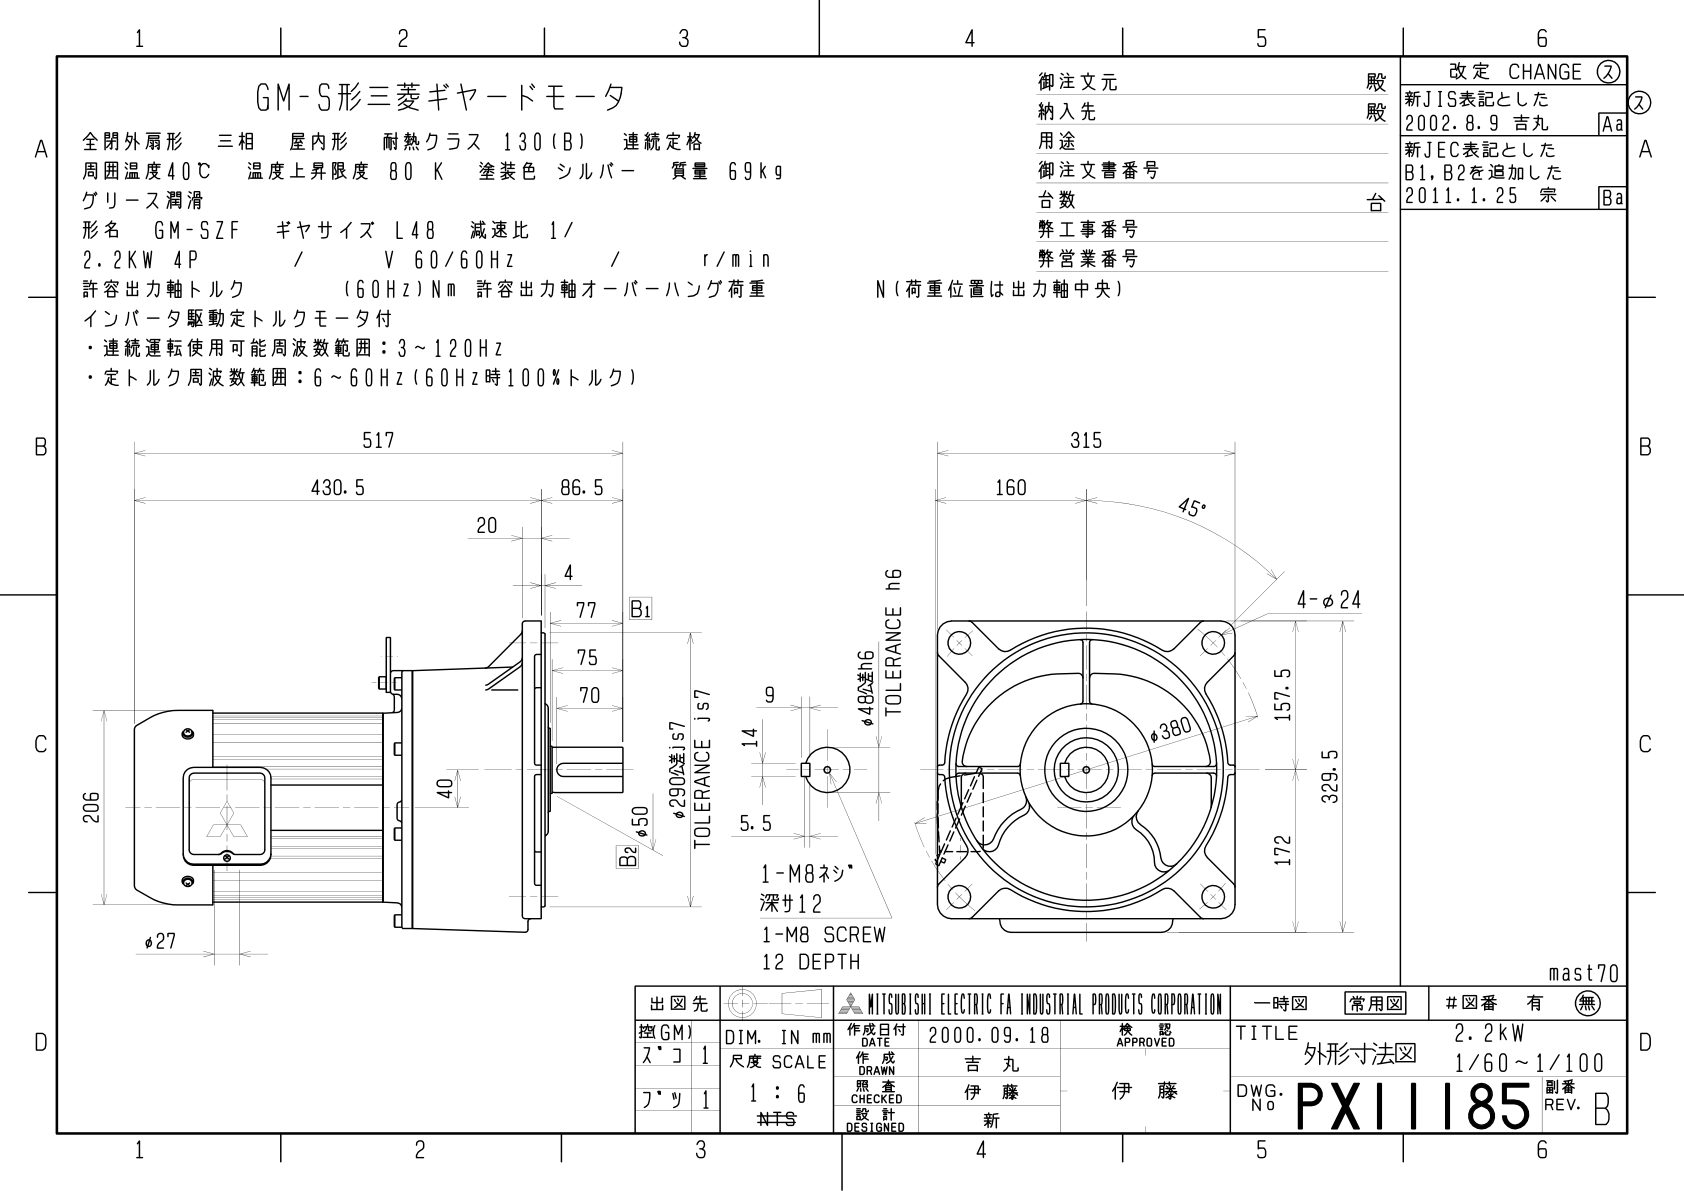GM_S_インバタ屋内＿三相_フランジ: (9, 13, 1684, 1191)
